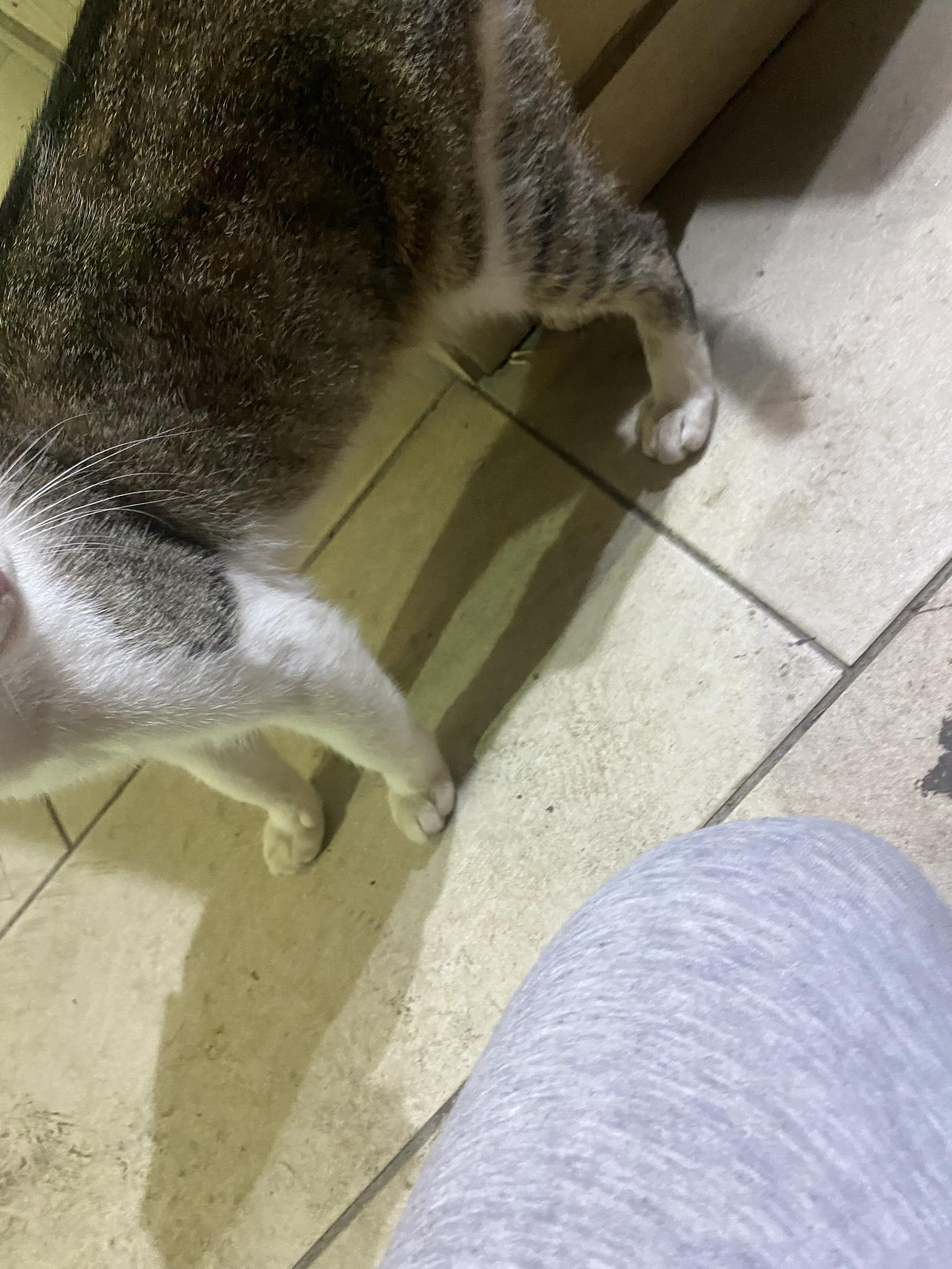macka: (0, 0, 715, 881)
